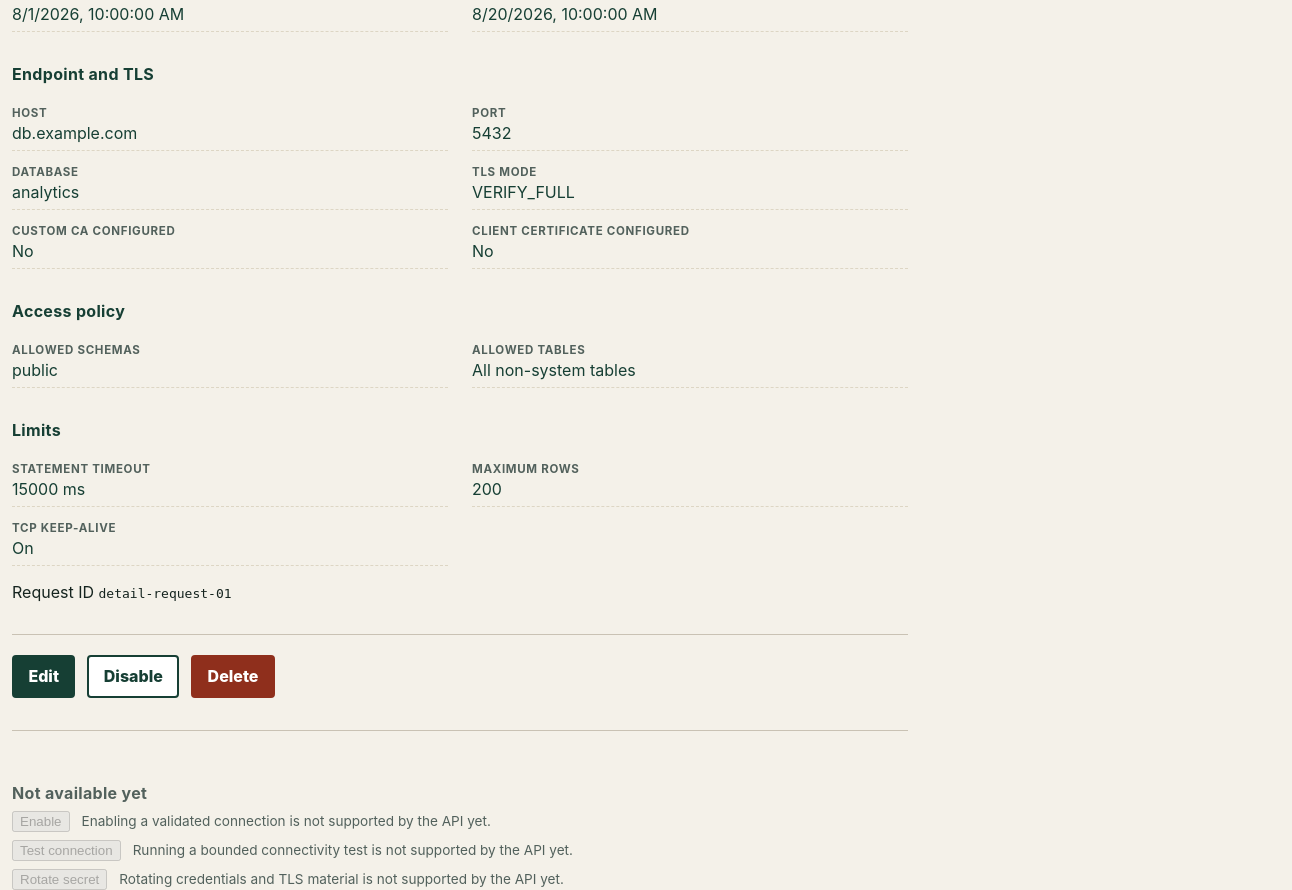
Test: ConnectionDetailPanel › reloads the detail instead of crash-rendering an operation accepted for update
This screenshot has width=1292, height=890.
(page scrolled)
Click the button "Edit".
click(44, 676)  # box [12,654,75,698]
(page scrolled)
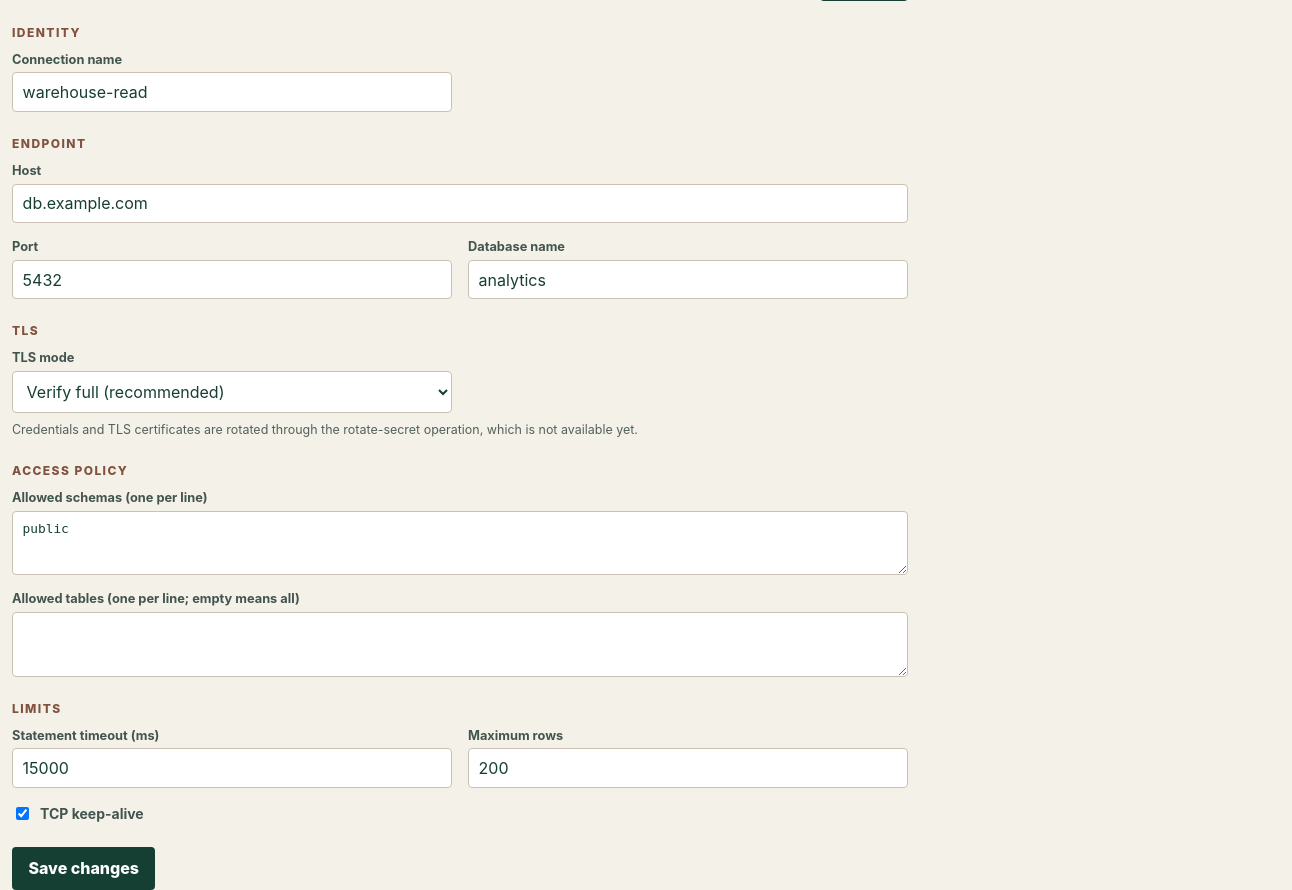
Replace the text in the field labelled "Connection name" with "renamed" at (232, 92), box [12,72,452,112]
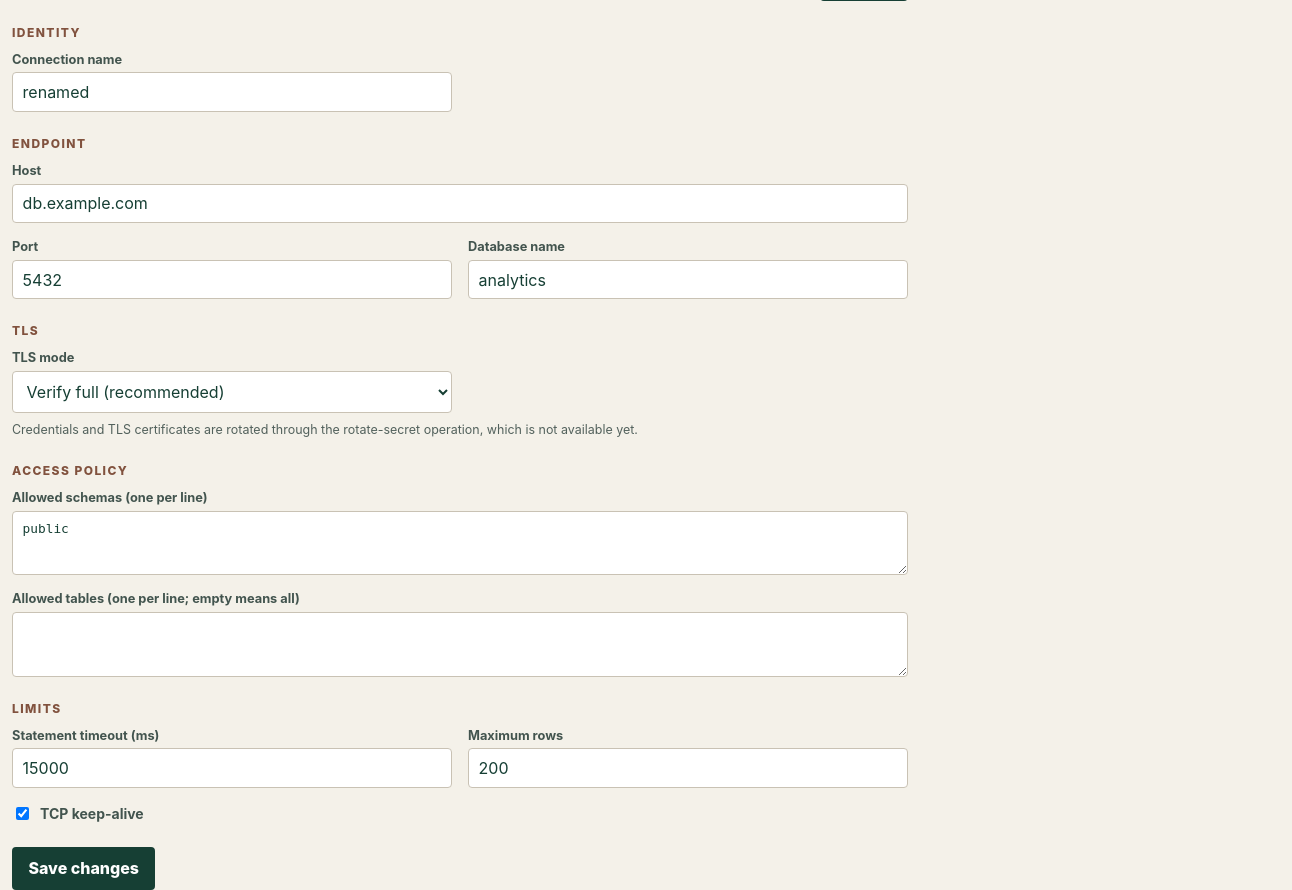
Click the button "Save changes".
click(84, 868)  # box [12,847,155,889]
(page scrolled)
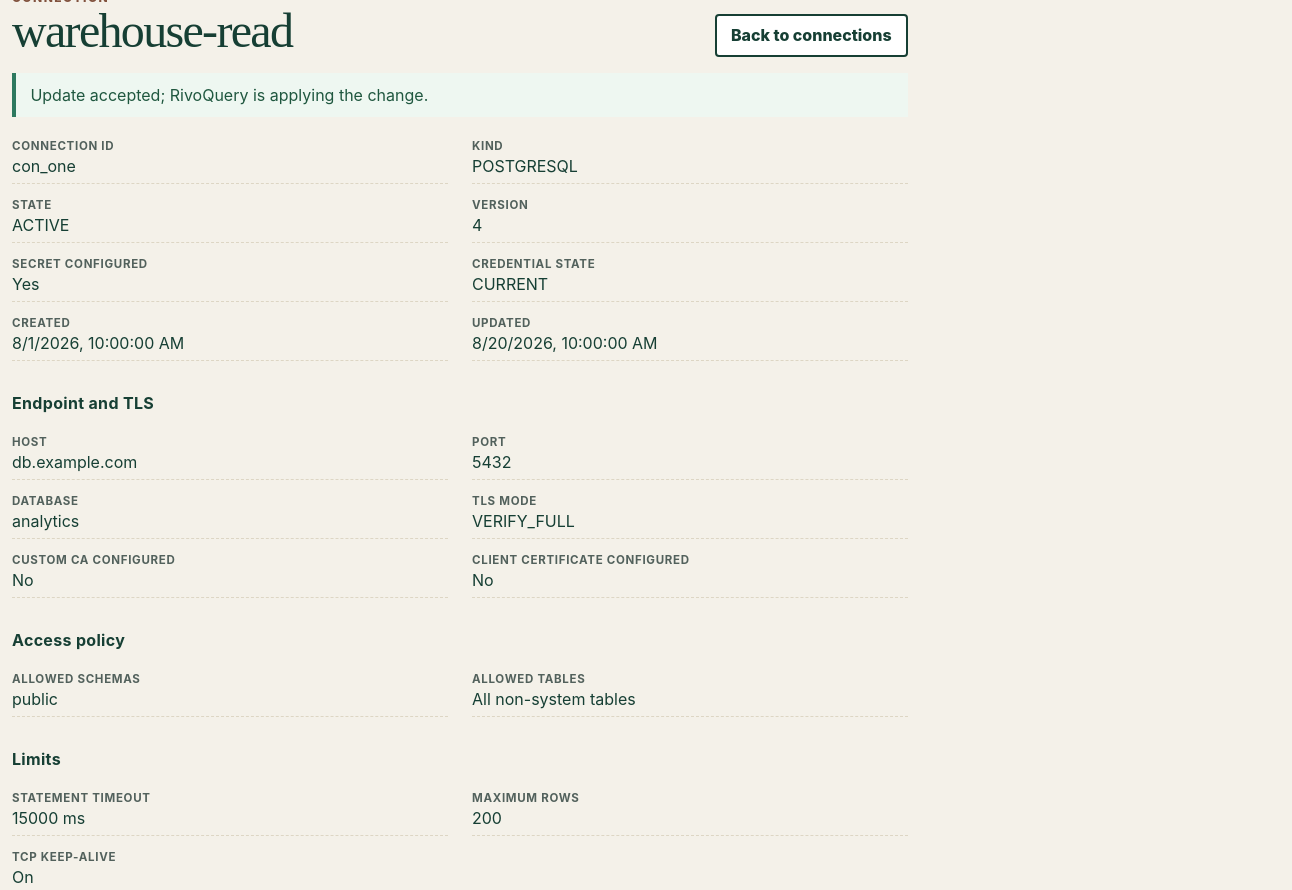
Expected: the heading "warehouse-read" is shown, [12,5,292,57]
Result: the text "Update accepted; RivoQuery is applying the change." is shown at [12,73,908,117]
